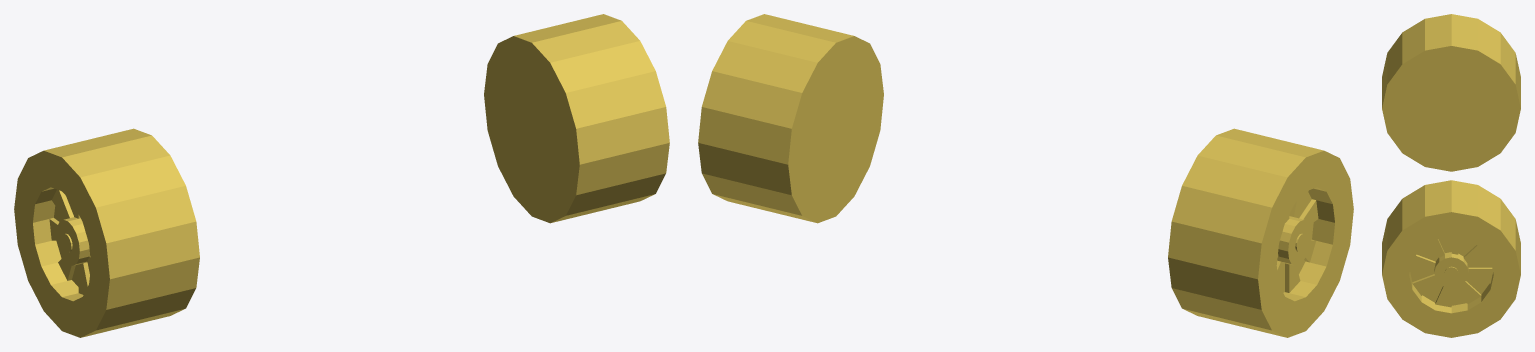
The model's file is Llantasdelanteras.obj.
3 renders of one model, left to right at view 1: azimuth 30°, elevation 25°; view 2: azimuth 150°, elevation 25°; view 3: azimuth 270°, elevation 25°, orthographic. The views are drawn at different scales.
Visible parts, largest first — view 1: Cylinder_001_Cylinder_003; view 2: Cylinder_001_Cylinder_003; view 3: Cylinder_001_Cylinder_003.
Part boxes in pixels (x1,y1,x2,y2): Cylinder_001_Cylinder_003: (14, 14, 669, 337); Cylinder_001_Cylinder_003: (698, 14, 1353, 337); Cylinder_001_Cylinder_003: (1382, 14, 1520, 337).
Size of the model in its own units: 2.68 by 0.7947 by 0.7948.
